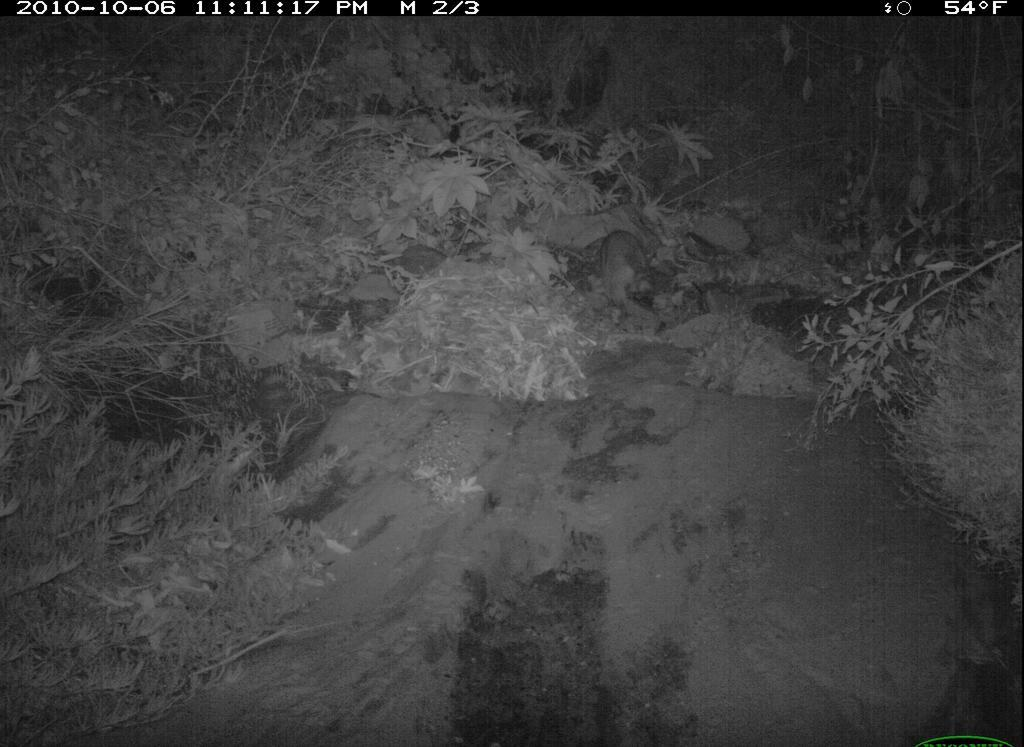raccoon: (598, 227, 660, 327)
